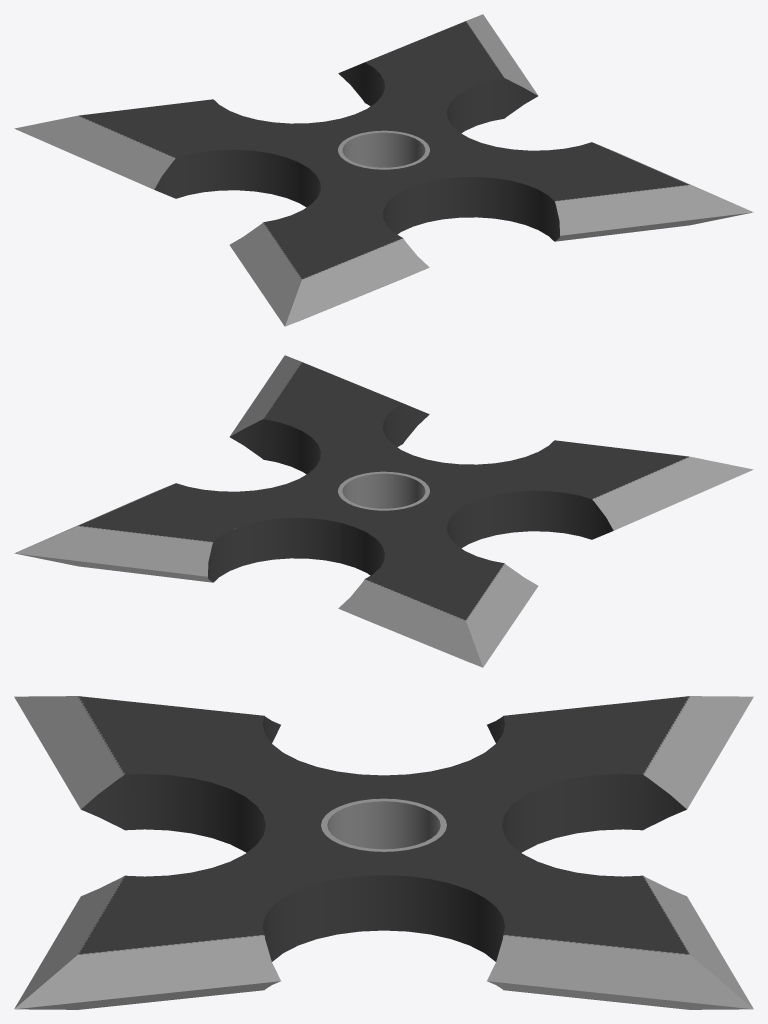
The model's file is shuriken.fbx.
3 views of the same model, one above another, from view 1: azimuth 30°, elevation 25°; view 2: azimuth 150°, elevation 25°; view 3: azimuth 270°, elevation 25° (orthographic). The views are drawn at different scales.
Parts seen in each view (by area): view 1: Plane; view 2: Plane; view 3: Plane.
Boxes of the visible parts, x1=… form: Plane: x1=14, y1=14, x2=753, y2=326; Plane: x1=14, y1=355, x2=753, y2=667; Plane: x1=14, y1=696, x2=753, y2=1009.
Bounding box in the file's own units: 484 × 40 × 484.
